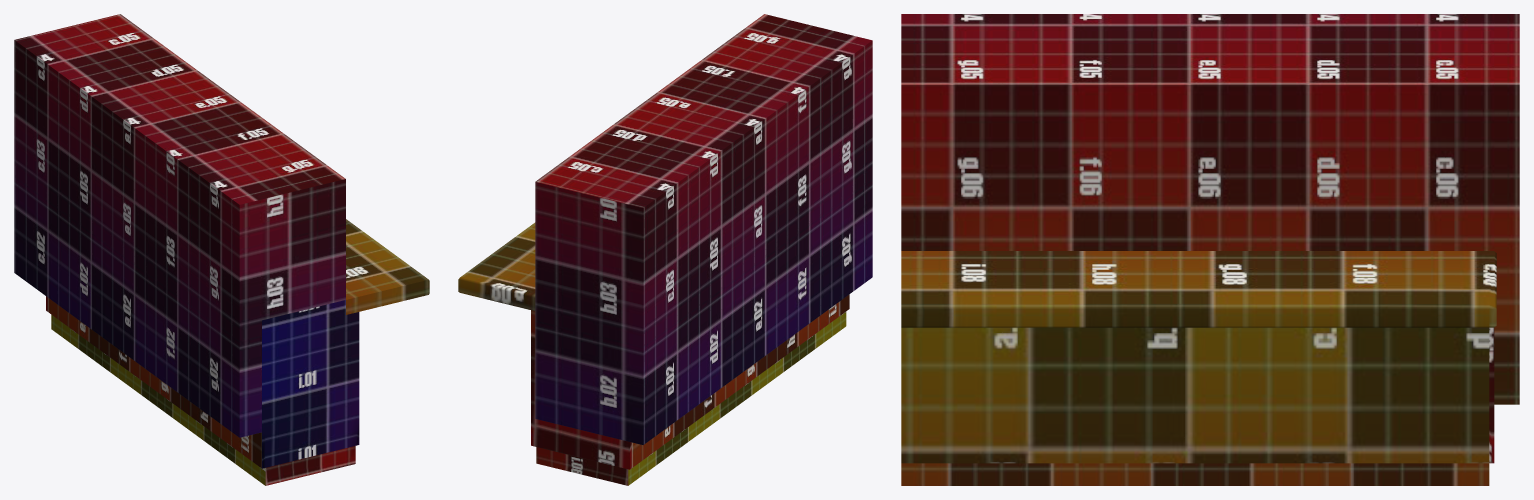
File: clerk_desk_flatCap_left01.fbx
3 views of the same model, side by side, from view 1: azimuth 30°, elevation 25°; view 2: azimuth 150°, elevation 25°; view 3: azimuth 270°, elevation 25° (orthographic). The views are drawn at different scales.
Parts seen in each view (by area): view 1: pCube18; view 2: pCube18; view 3: pCube18.
Boxes of the visible parts, left/top/right/bottom form: pCube18: left=14, top=14, right=429, bottom=485; pCube18: left=458, top=14, right=872, bottom=485; pCube18: left=901, top=14, right=1519, bottom=485.
Bounding box in the file's own units: 65.74 × 95 × 135.
